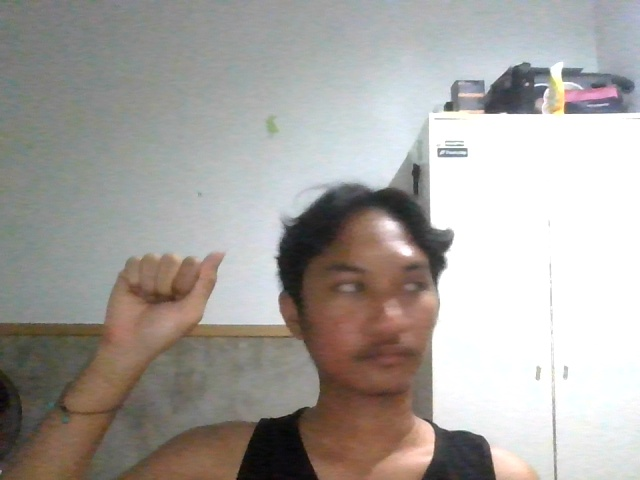a: (91, 235, 236, 352)
